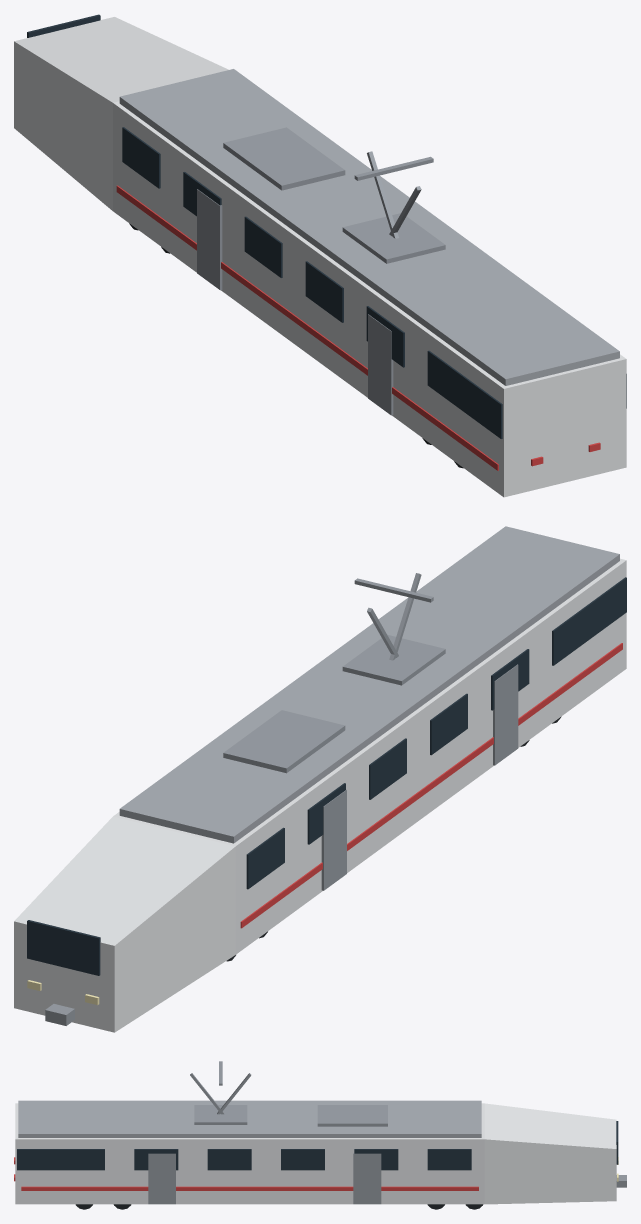
3 views of the same model, one above another, from view 1: azimuth 30°, elevation 25°; view 2: azimuth 150°, elevation 25°; view 3: azimuth 270°, elevation 25° (orthographic). The views are drawn at different scales.
Parts seen in each view (by area): view 1: body, roof, cab, door (×2), roof-unit, pantograph-base, stripe, window--1-0, window--1-3, window--1-6, window--1-2, window--1-5 (+2 smaller); view 2: roof, cab, body, door (×2), roof-unit, windshield, pantograph-base, stripe, window--1-0, window--1-5, window--1-3, window--1-2 (+3 smaller); view 3: body, roof, cab, door (×2), stripe, roof-unit, pantograph-base, window-1-0, window-1-3, window-1-2, window-1-5, window-1-6 (+2 smaller).
Boxes of the visible parts, bbox=[...] form: body: bbox=[113, 101, 626, 497]; roof: bbox=[119, 69, 619, 385]; cab: bbox=[14, 17, 228, 210]; door (×2): bbox=[197, 189, 393, 415]; roof-unit: bbox=[223, 127, 345, 190]; pantograph-base: bbox=[342, 213, 445, 263]; stripe: bbox=[116, 185, 498, 470]; window--1-0: bbox=[122, 127, 160, 188]; window--1-3: bbox=[305, 261, 343, 322]; window--1-6: bbox=[464, 377, 502, 438]; window--1-2: bbox=[244, 216, 282, 277]; window--1-5: bbox=[427, 350, 465, 411]; roof: bbox=[119, 526, 619, 843]; cab: bbox=[14, 816, 235, 1032]; body: bbox=[113, 558, 626, 954]; door (×2): bbox=[321, 664, 518, 890]; roof-unit: bbox=[223, 710, 345, 773]; windshield: bbox=[27, 920, 100, 975]; pantograph-base: bbox=[342, 634, 445, 685]; stripe: bbox=[240, 643, 622, 928]; window--1-0: bbox=[246, 827, 284, 889]; window--1-5: bbox=[552, 604, 590, 665]; window--1-3: bbox=[430, 693, 467, 755]; window--1-2: bbox=[369, 738, 406, 799]; body: bbox=[15, 1103, 484, 1204]; roof: bbox=[18, 1100, 481, 1137]; cab: bbox=[484, 1103, 616, 1204]; door (×2): bbox=[148, 1153, 381, 1204]; stripe: bbox=[21, 1186, 478, 1190]; roof-unit: bbox=[317, 1105, 387, 1126]; pantograph-base: bbox=[194, 1105, 247, 1124]; window-1-0: bbox=[427, 1149, 471, 1170]; window-1-3: bbox=[207, 1149, 251, 1170]; window-1-2: bbox=[281, 1149, 324, 1170]; window-1-5: bbox=[61, 1149, 104, 1170]; window-1-6: bbox=[17, 1149, 60, 1170].
Size of the model in its own units: 3 by 4.63 by 20.9.
